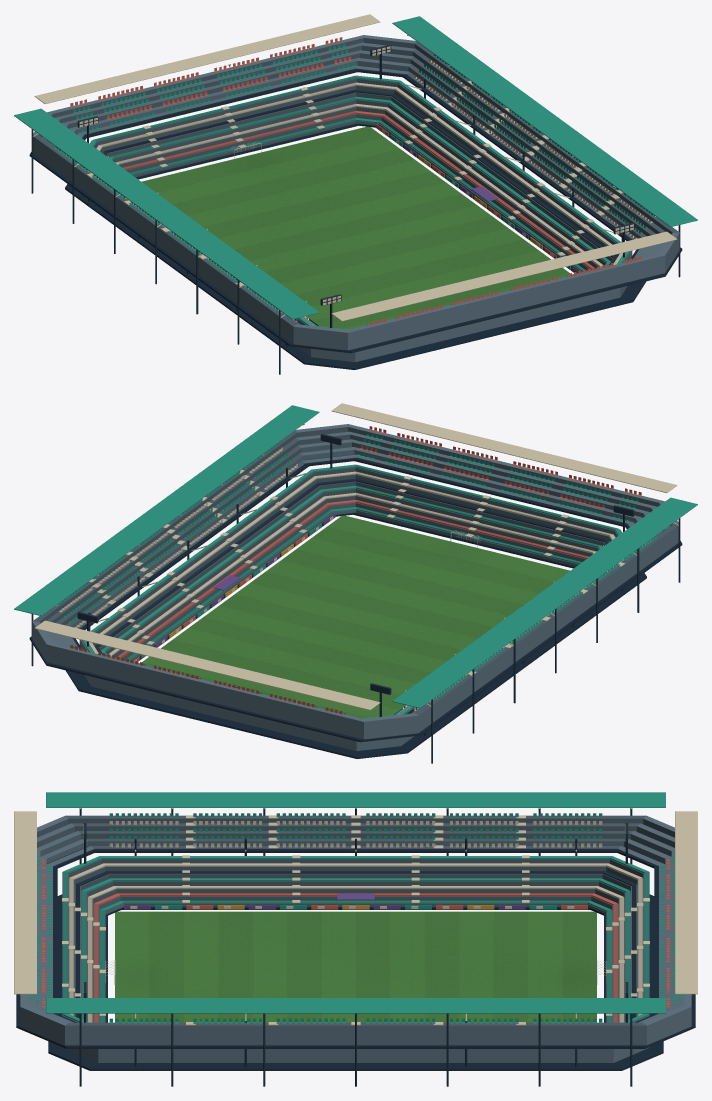
The model's file is soccer-stage.glb.
The picture shows the model from 3 angles, top to bottom: view 1: azimuth 30°, elevation 25°; view 2: azimuth 150°, elevation 25°; view 3: azimuth 270°, elevation 25°; orthographic projection. The views are drawn at different scales.
Parts seen in each view (by area): view 1: soccer_stage; view 2: soccer_stage; view 3: soccer_stage.
Part boxes in pixels (<box>): soccer_stage: <box>14,14,697,374</box>; soccer_stage: <box>14,403,697,763</box>; soccer_stage: <box>14,792,697,1086</box>.
Bounding box in the file's own units: 114 × 18.12 × 149.
Materials: 2 (1 with a texture image).
